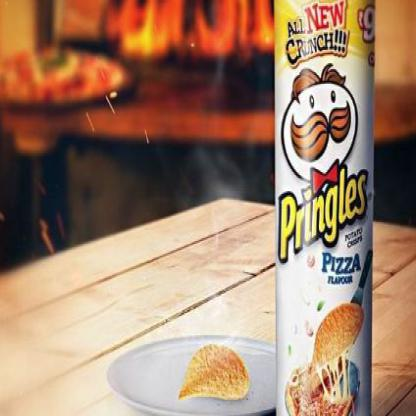potatochip: (270, 0, 377, 415)
